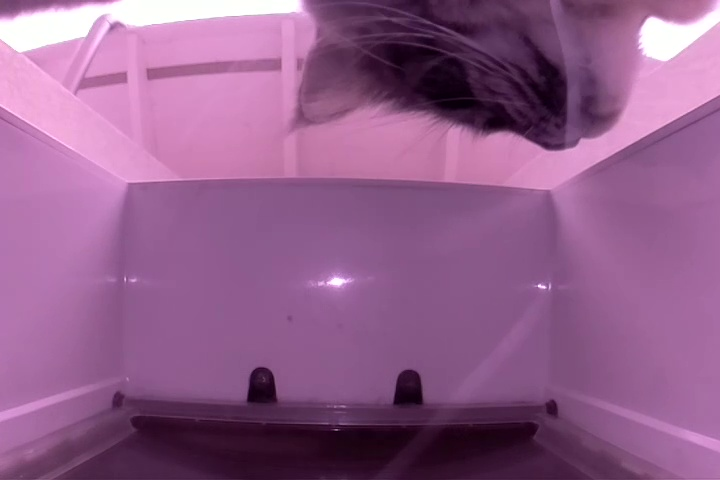Snout: (516, 17, 638, 155)
